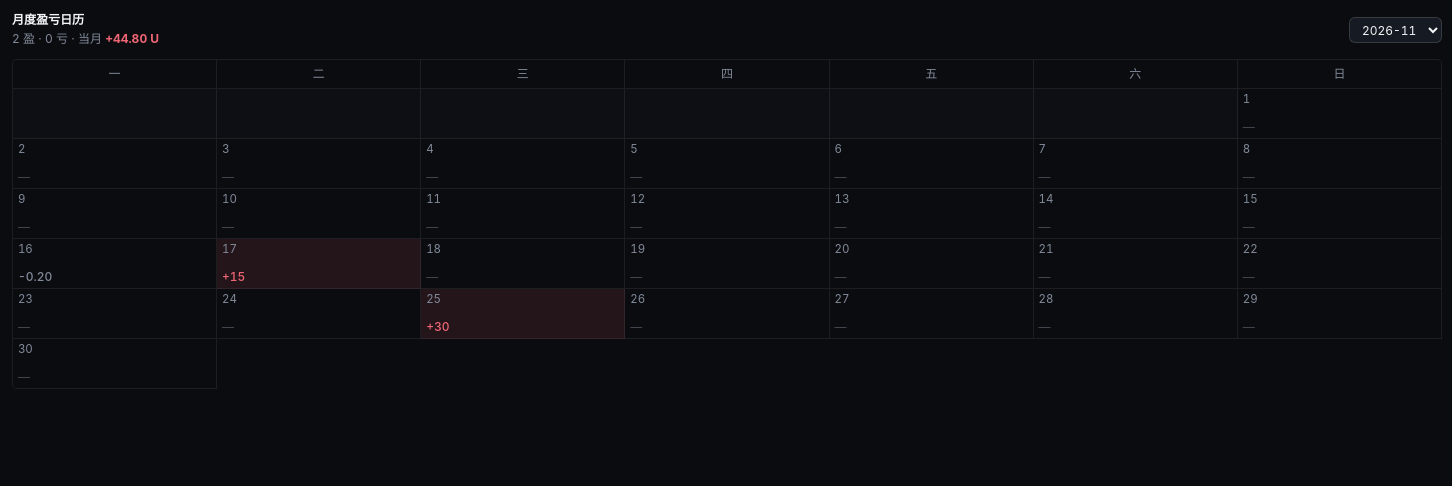
Test case: switches between the actual daily contract contributions and keeps portfolio totals distinct
The image size is (1452, 486).
Click the button "17 +15": (319, 264) [217, 239, 421, 289]
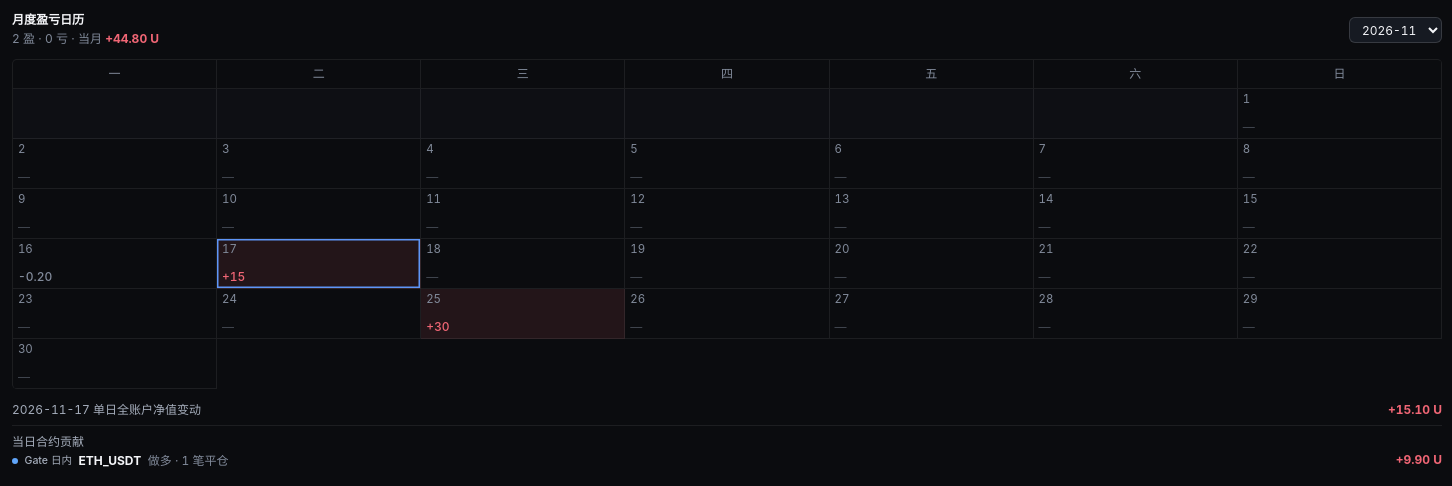
Expected: the text "Gate 日内" is shown, [24, 453, 72, 469]
Expected: the text "ETH_USDT" is shown, [78, 452, 141, 470]
Expected: the text "+9.90 U" is shown, [1396, 451, 1442, 469]
Click the button "25 +30": (523, 314) [421, 289, 625, 339]
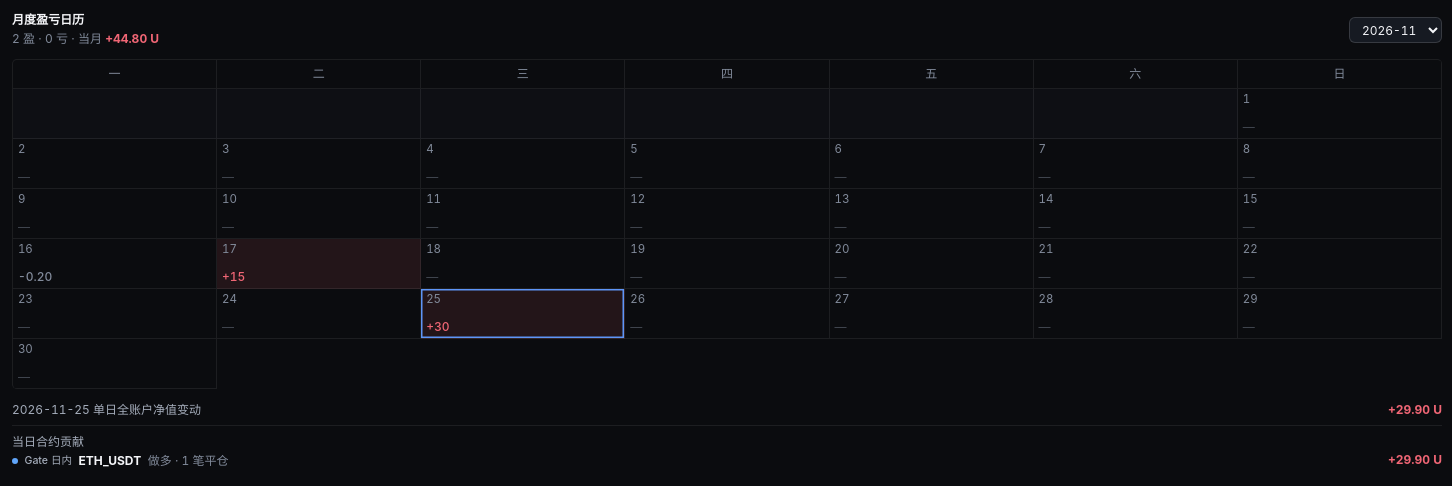
Expected: the text "+29.90 U" in the row of "Gate 日内" is shown, [1388, 452, 1442, 467]
Expected: the text "+9.90" is gone
Click the button "16 -0.20": (115, 264) [13, 239, 217, 289]
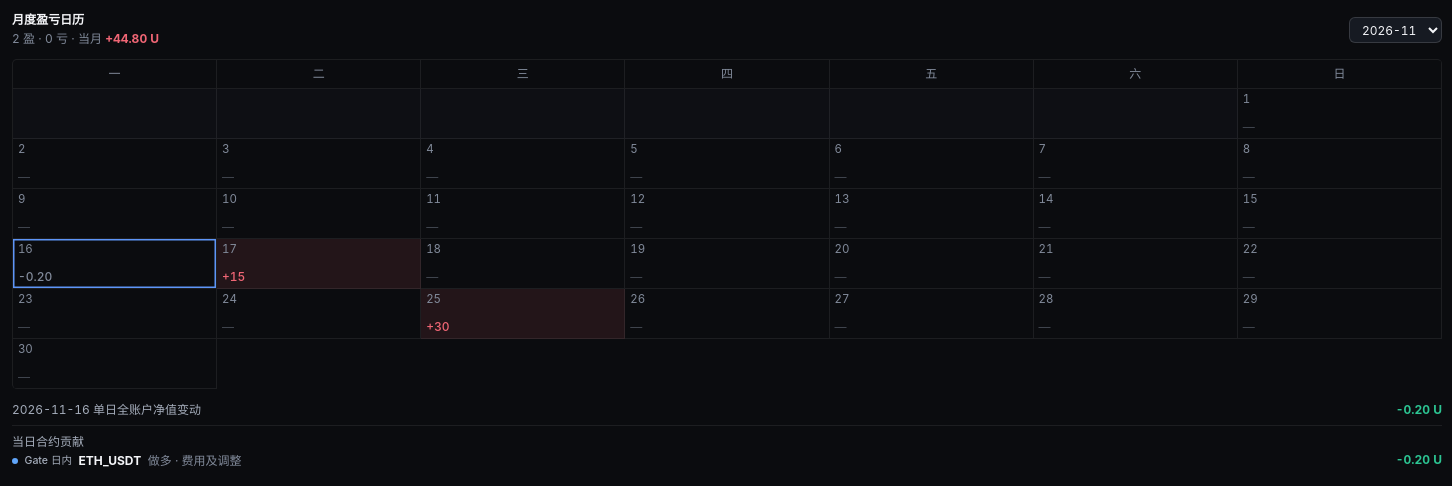
Expected: the text "-0.20 U" in the row of "Gate 日内" is shown, [1396, 452, 1442, 467]
Expected: the text "平仓" is gone
